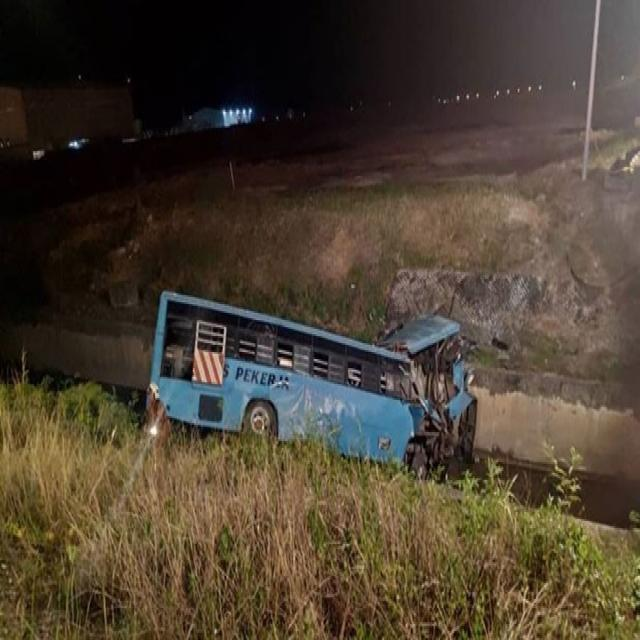Accident: (141, 281, 477, 496)
